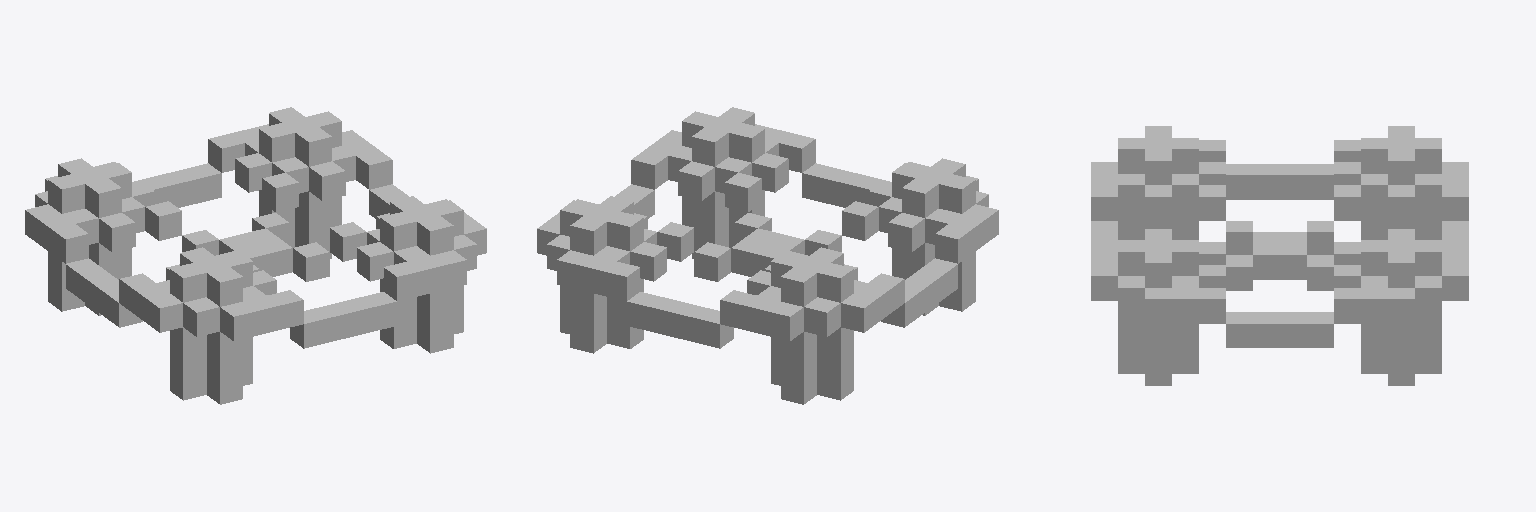
File: trapworks_strings_string_l1.obj
3 views of the same model, side by side, from view 1: azimuth 30°, elevation 25°; view 2: azimuth 150°, elevation 25°; view 3: azimuth 270°, elevation 25° (orthographic).
Parts seen in each view (by area): view 1: node_0_0_0; view 2: node_0_0_0; view 3: node_0_0_0.
Boxes of the visible parts, <box> form: node_0_0_0: <box>25,107,486,404</box>; node_0_0_0: <box>537,107,998,404</box>; node_0_0_0: <box>1091,126,1468,385</box>.
Size of the model in its own units: 0.875 by 0.3125 by 0.875.